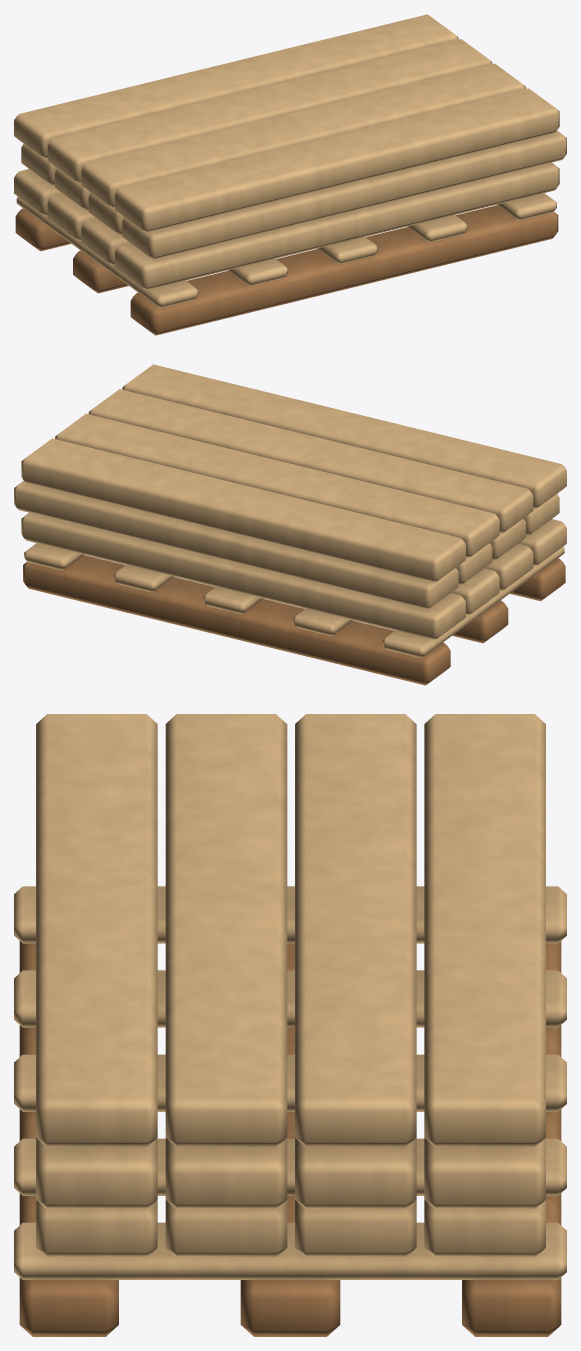
File: plank-stack.fbx
3 views of the same model, one above another, from view 1: azimuth 30°, elevation 25°; view 2: azimuth 150°, elevation 25°; view 3: azimuth 270°, elevation 25° (orthographic). The views are drawn at different scales.
Visible parts, largest first — view 1: plank-stack; view 2: plank-stack; view 3: plank-stack.
Boxes of the visible parts, x1,y1,x2,y2 form: plank-stack: (14, 14, 566, 335); plank-stack: (14, 364, 566, 685); plank-stack: (14, 714, 566, 1336).
Size of the model in its own units: 860 by 246 by 503.
Materials: 1 (1 with a texture image).
